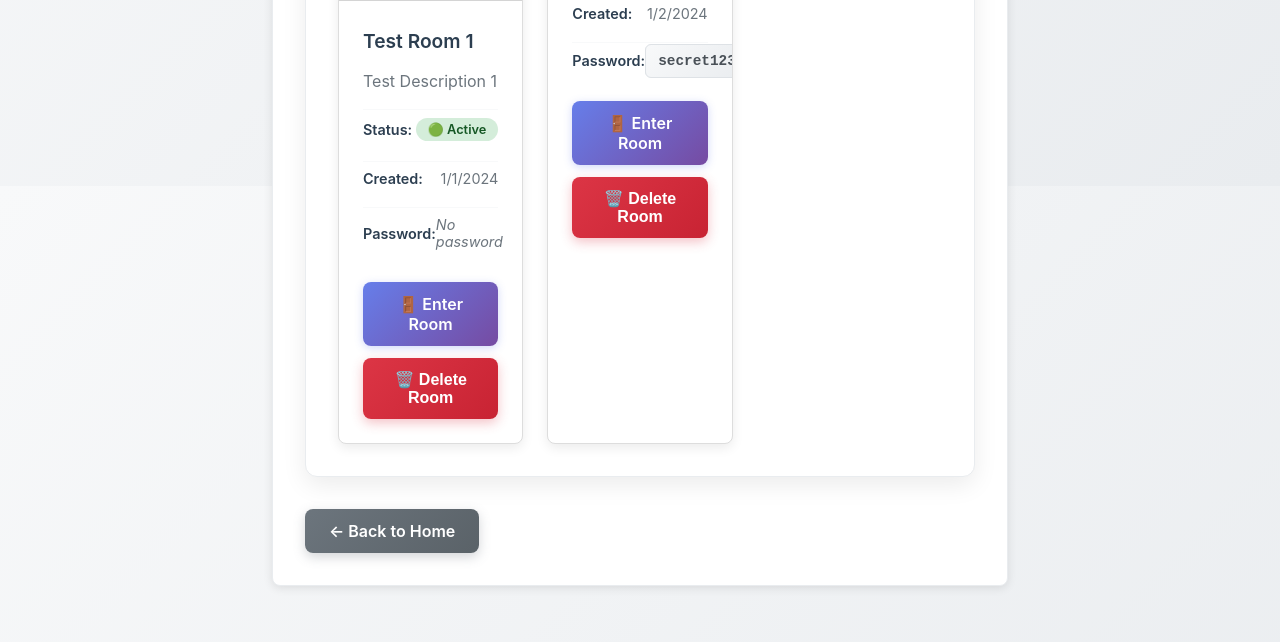
TutorView - Delete Room Modal › should open delete confirmation modal when delete button is clicked
(page scrolled)
Expected: the heading "Test Room 1" is shown, [363,29,474,53]
Expected: the text "Confirm Room Deletion" is not shown
# Click delete button
Click the button "🗑️ Delete Room" below "No password". click: coordinates (431, 388)
box: [363,358,498,419]
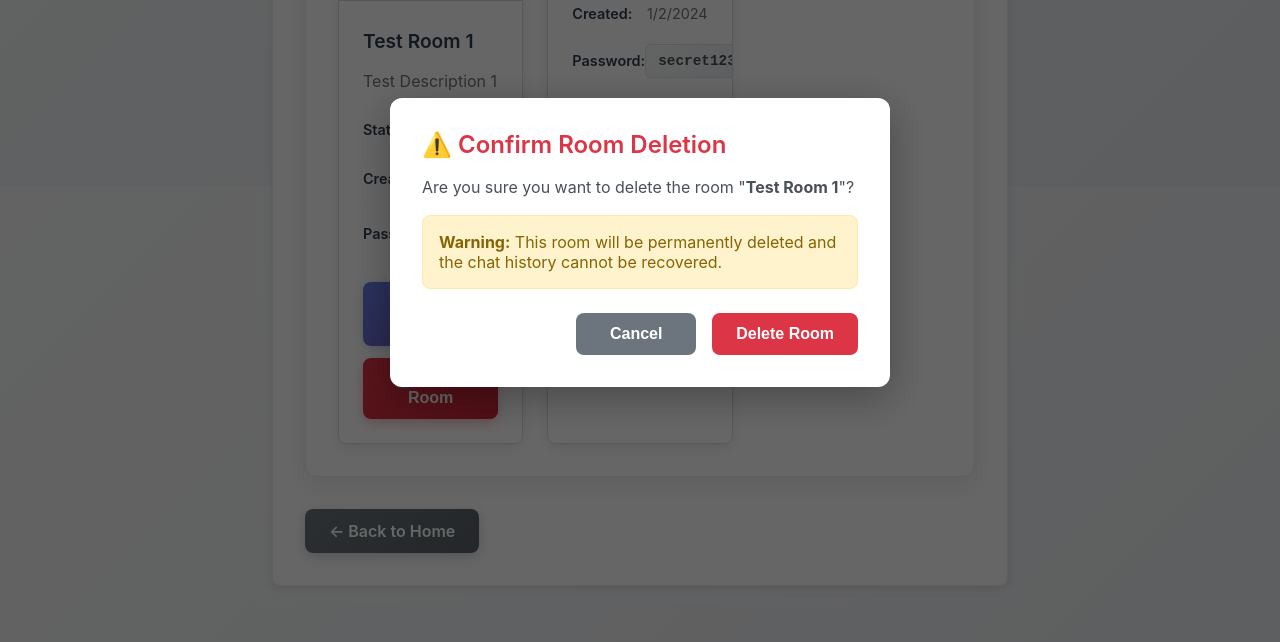
Expected: the heading "Test Room 1" is shown, [363,29,474,53]
Result: the heading "⚠️ Confirm Room Deletion" is shown at [422,130,726,158]
Result: the text "Are you sure you want to delete the room \"Test Room 1\"?" is shown at [422,174,858,198]
